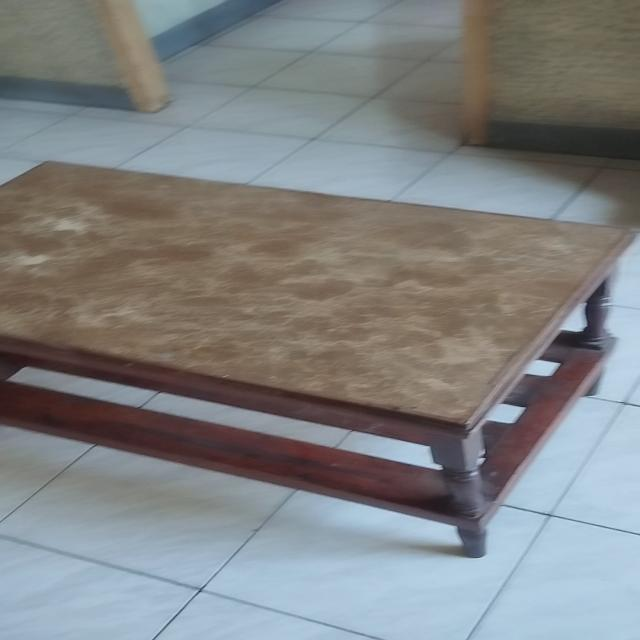table: (0, 151, 640, 567)
